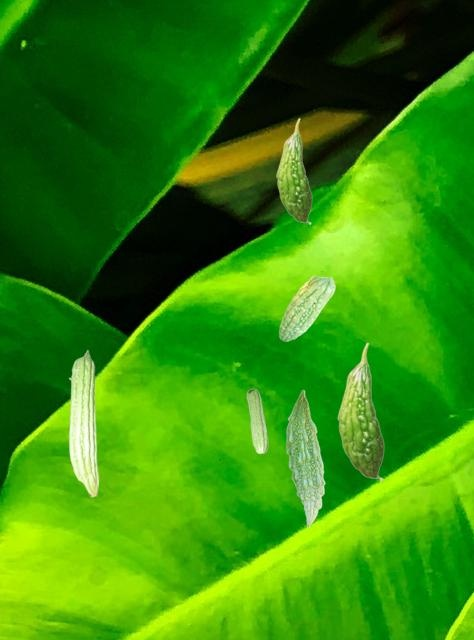ampalaya: (337, 342, 384, 481), (286, 389, 325, 527), (68, 349, 99, 497), (275, 117, 312, 225), (278, 275, 335, 342), (246, 388, 268, 454)
